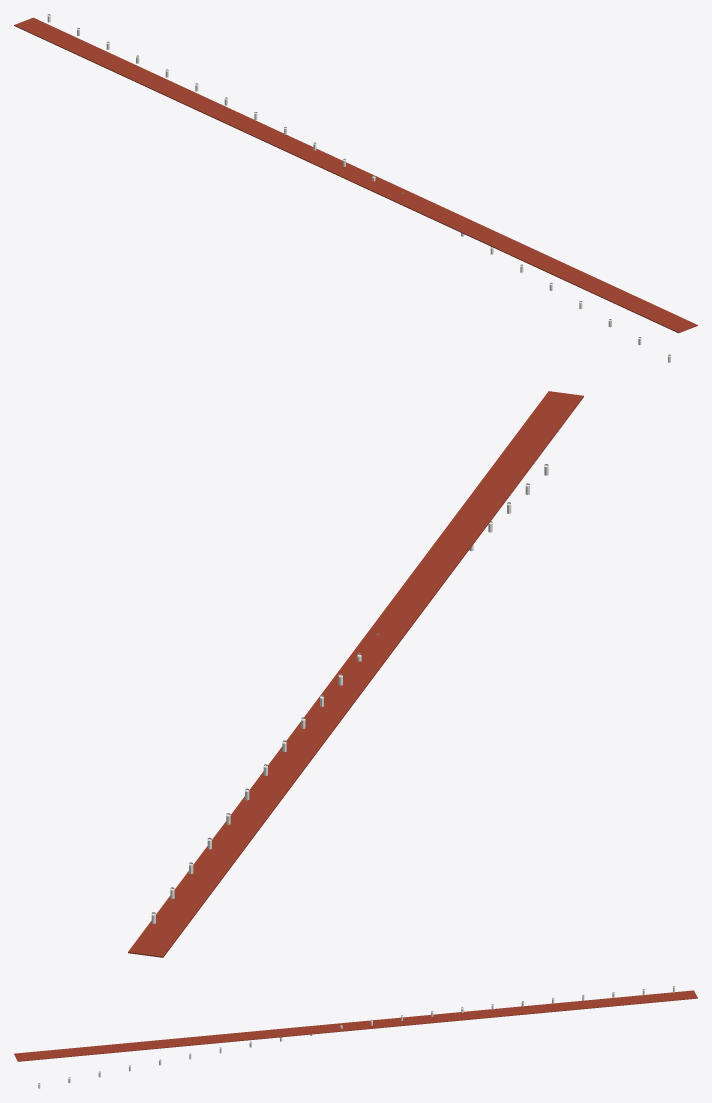
File: lagoweg_bollards.glb
3 renders of one model, top to bottom at view 1: azimuth 30°, elevation 25°; view 2: azimuth 150°, elevation 25°; view 3: azimuth 270°, elevation 25°, orthographic. The views are drawn at different scales.
Parts seen in each view (by area): view 1: lagoweg_bollards_lod0; view 2: lagoweg_bollards_lod0; view 3: lagoweg_bollards_lod0.
Boxes of the visible parts, left/top/right/bottom form: lagoweg_bollards_lod0: left=14, top=14, right=697, bottom=362; lagoweg_bollards_lod0: left=128, top=391, right=583, bottom=957; lagoweg_bollards_lod0: left=14, top=986, right=697, bottom=1088.
Size of what is drawn, in the model's own units: 21.69 by 6.13 by 88.45.
